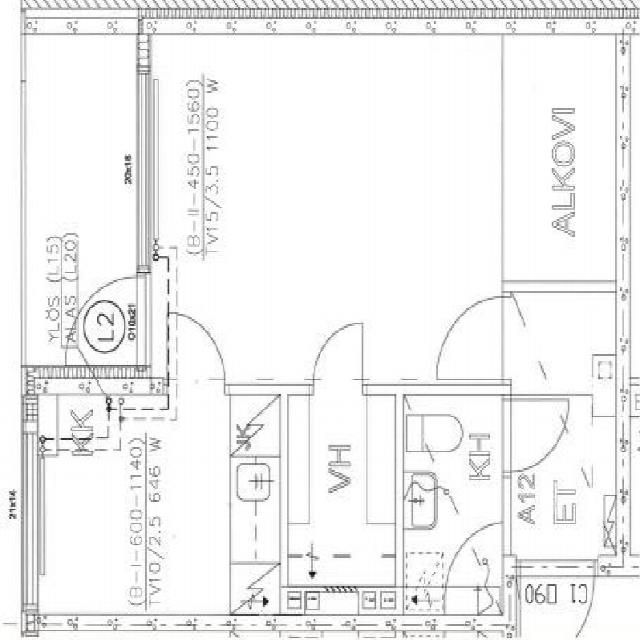door: (66, 275, 148, 365), (438, 297, 511, 377), (503, 399, 568, 471), (168, 314, 223, 394), (313, 322, 362, 394)
